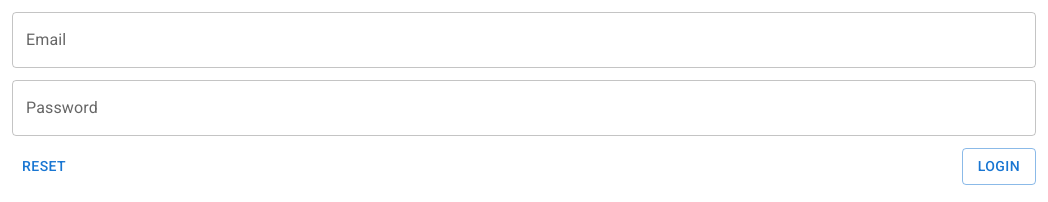
Test: Login Component › clears input fields when reset button is clicked
This screenshot has width=1048, height=202.
Note: Fill data into input fields
Type "test@example.com" into the field labelled "Email" at (524, 40), box left=12, top=12, right=1036, bottom=68
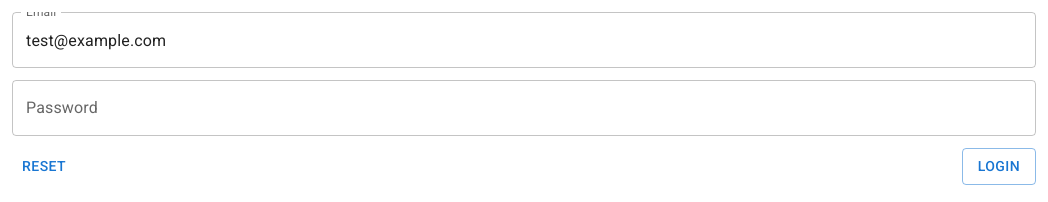
Type "password123" into the password field labelled "Password" at (524, 108), box left=12, top=80, right=1036, bottom=136
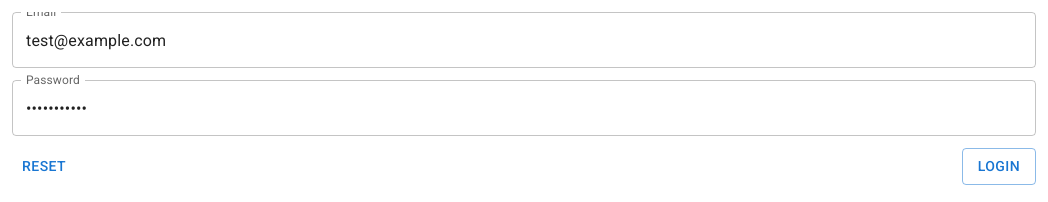
Note: Click reset button
Click the button "Reset" at (44, 166), box left=12, top=148, right=76, bottom=184
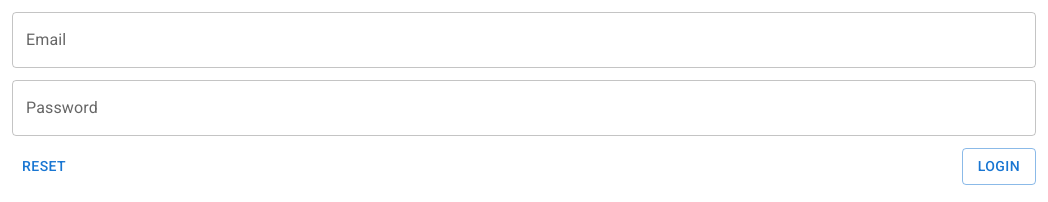
Expected: the field labelled "Email" is empty, left=12, top=12, right=1036, bottom=68
Expected: the password field labelled "Password" is empty, left=12, top=80, right=1036, bottom=136
